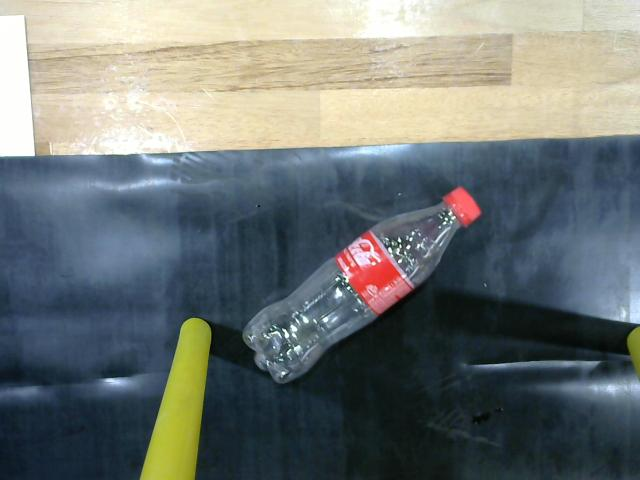bottle: (239, 172, 493, 395)
